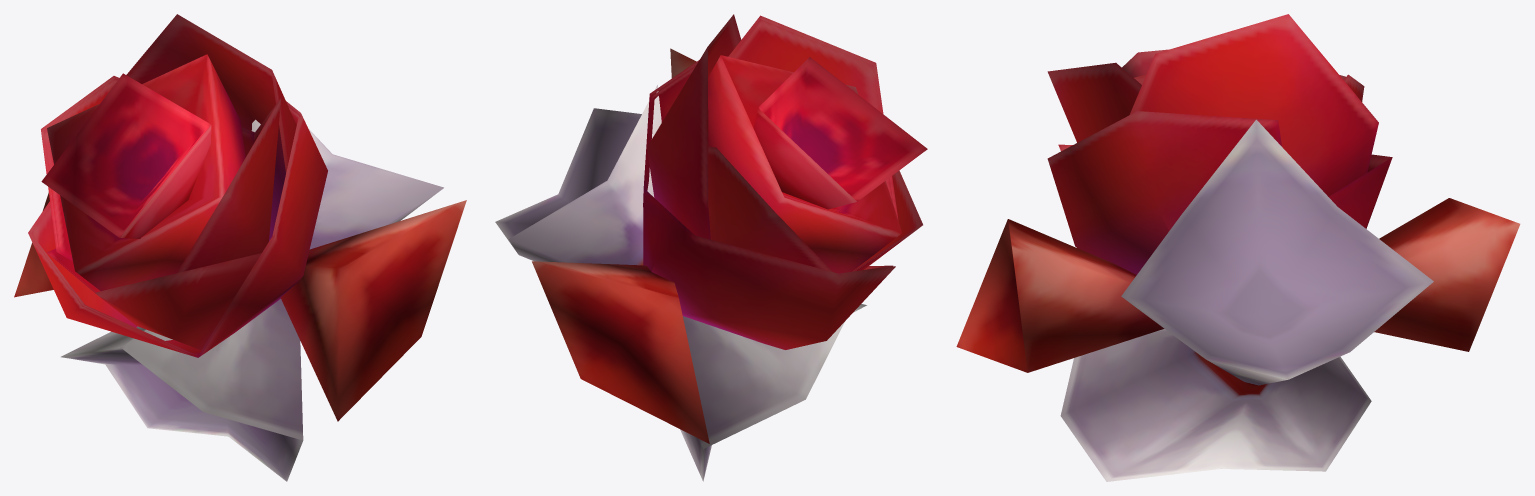
The model's file is Wpn_MeiGuiShouShi.FBX.
3 renders of one model, left to right at view 1: azimuth 30°, elevation 25°; view 2: azimuth 150°, elevation 25°; view 3: azimuth 270°, elevation 25°, orthographic. The views are drawn at different scales.
Parts seen in each view (by area): view 1: Wpn_MeiGuiShouShi; view 2: Wpn_MeiGuiShouShi; view 3: Wpn_MeiGuiShouShi.
Boxes of the visible parts, box(x1,y1,x2,y2) form: Wpn_MeiGuiShouShi: box(14, 14, 466, 481); Wpn_MeiGuiShouShi: box(495, 14, 927, 481); Wpn_MeiGuiShouShi: box(956, 14, 1520, 481).
Bounding box in the file's own units: 0.3168 × 0.3518 × 0.3872.
